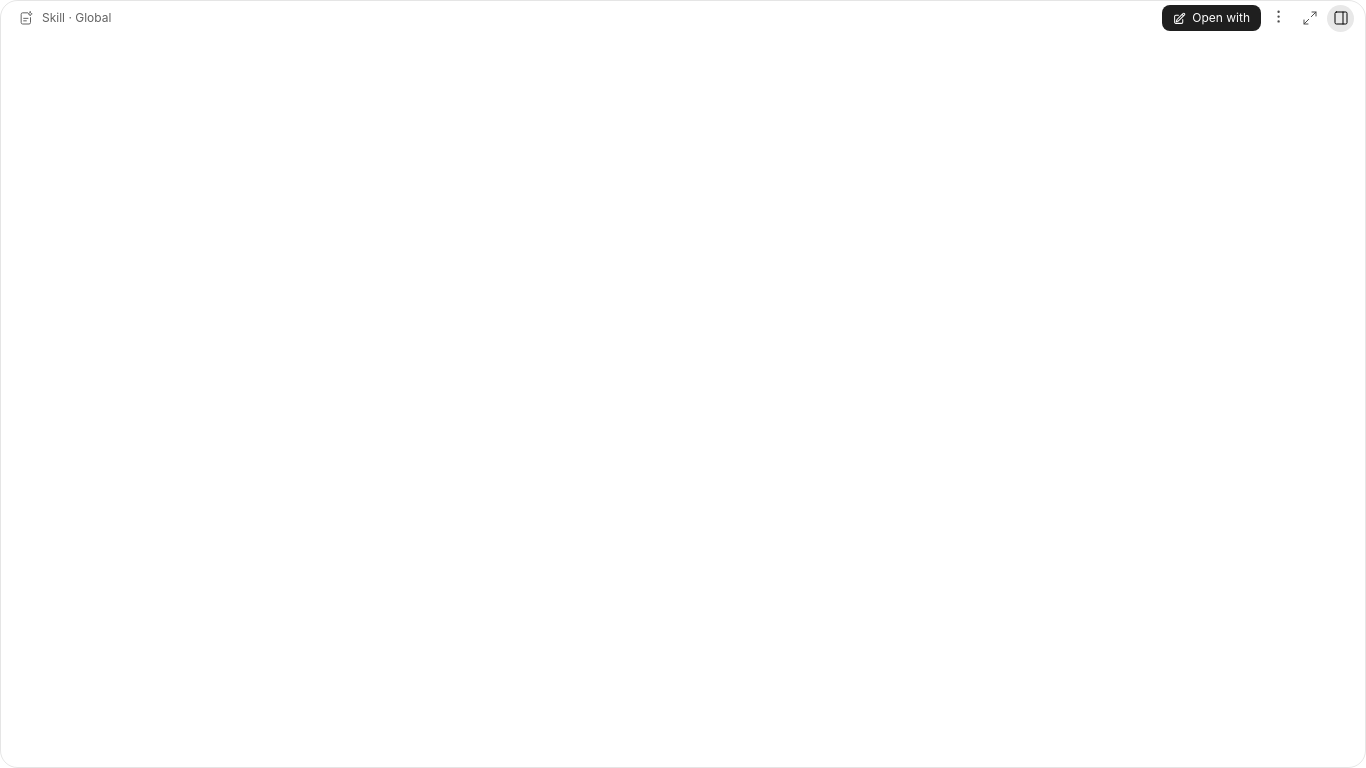
it: InspectorCap › collapses nothing into the menu at rest (forceShed=0)
The width and height of the screenshot is (1366, 768).
Step 1. Click the button named "More actions" → (1278, 17), box [1265,4,1292,30]
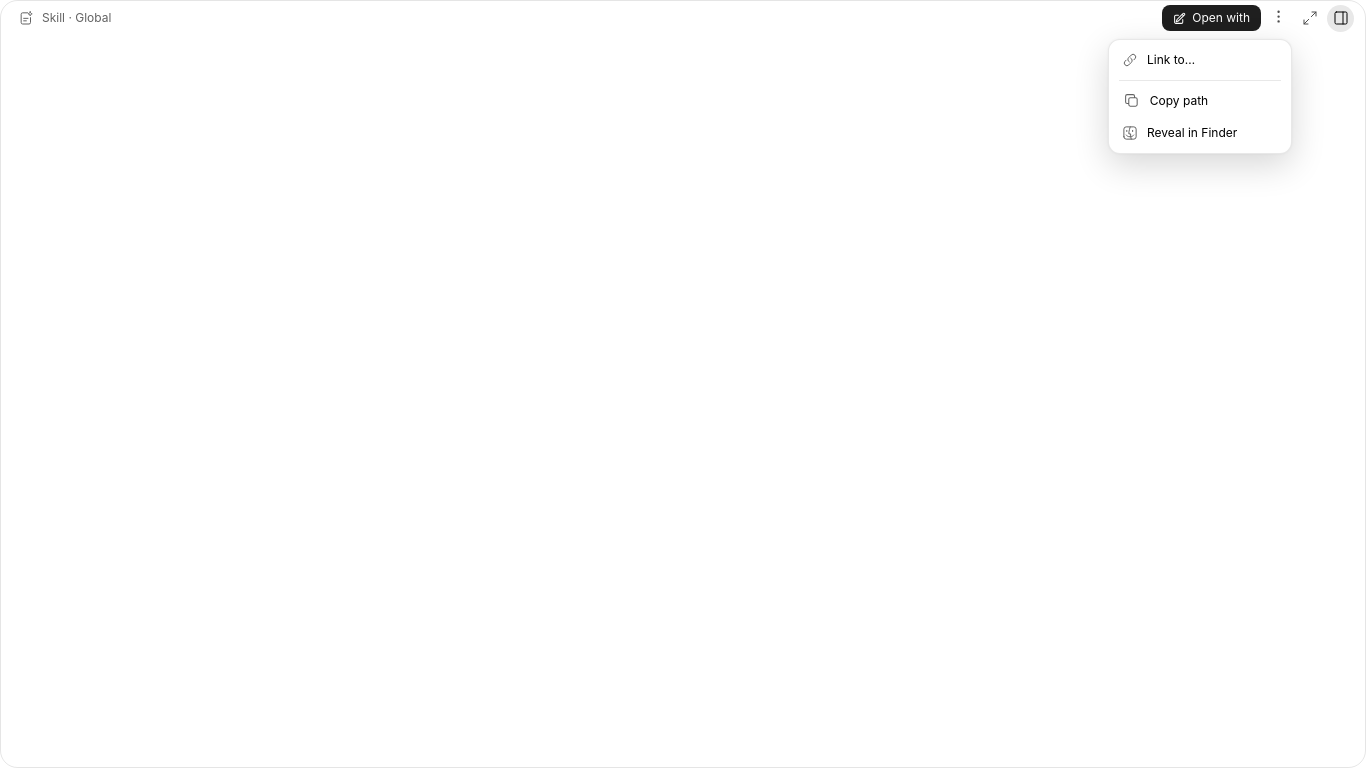
Expected: the menu items read "Link to…", "Copy path", "Reveal in Finder", in this order, [1113,44,1287,76]; [1113,84,1287,116]; [1113,116,1287,148]
